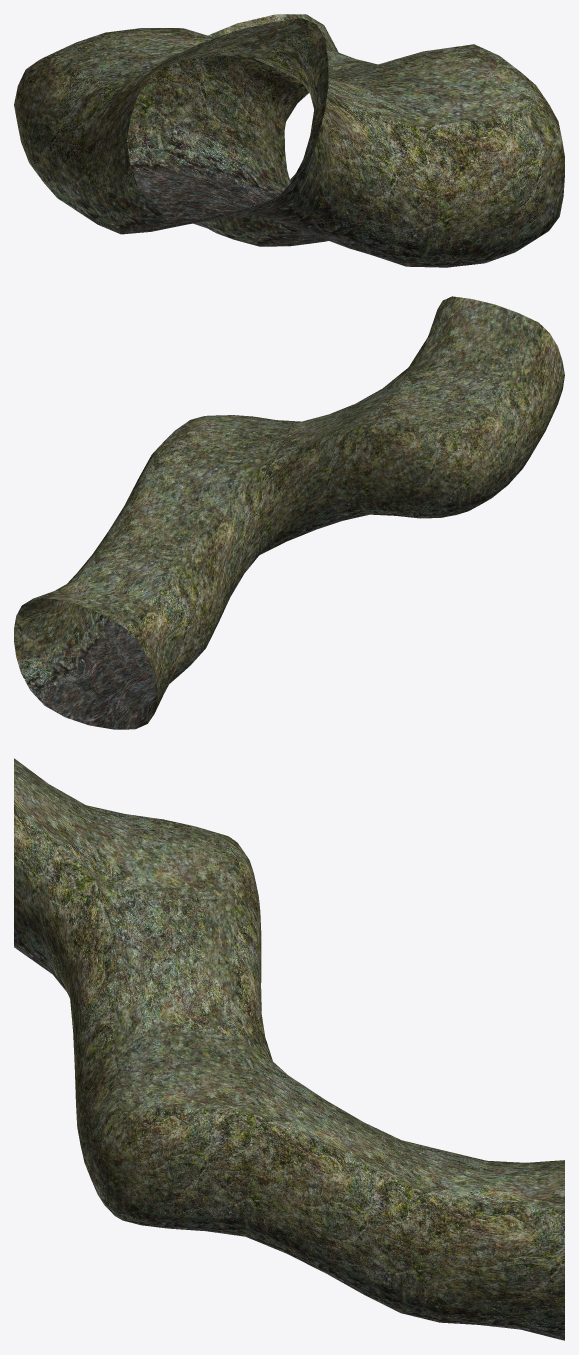
File: thm_all_cave_s01_damprock_mirror_r2_mesh_r2.fbx
3 renders of one model, top to bottom at view 1: azimuth 30°, elevation 25°; view 2: azimuth 150°, elevation 25°; view 3: azimuth 270°, elevation 25°, orthographic. The views are drawn at different scales.
Visible parts, largest first — view 1: mesh_node; view 2: mesh_node; view 3: mesh_node.
Boxes of the visible parts, <box> form: mesh_node: <box>14,14,564,267</box>; mesh_node: <box>14,296,564,729</box>; mesh_node: <box>14,758,564,1340</box>.
Size of the model in its own units: 33.65 by 29.66 by 35.32.
